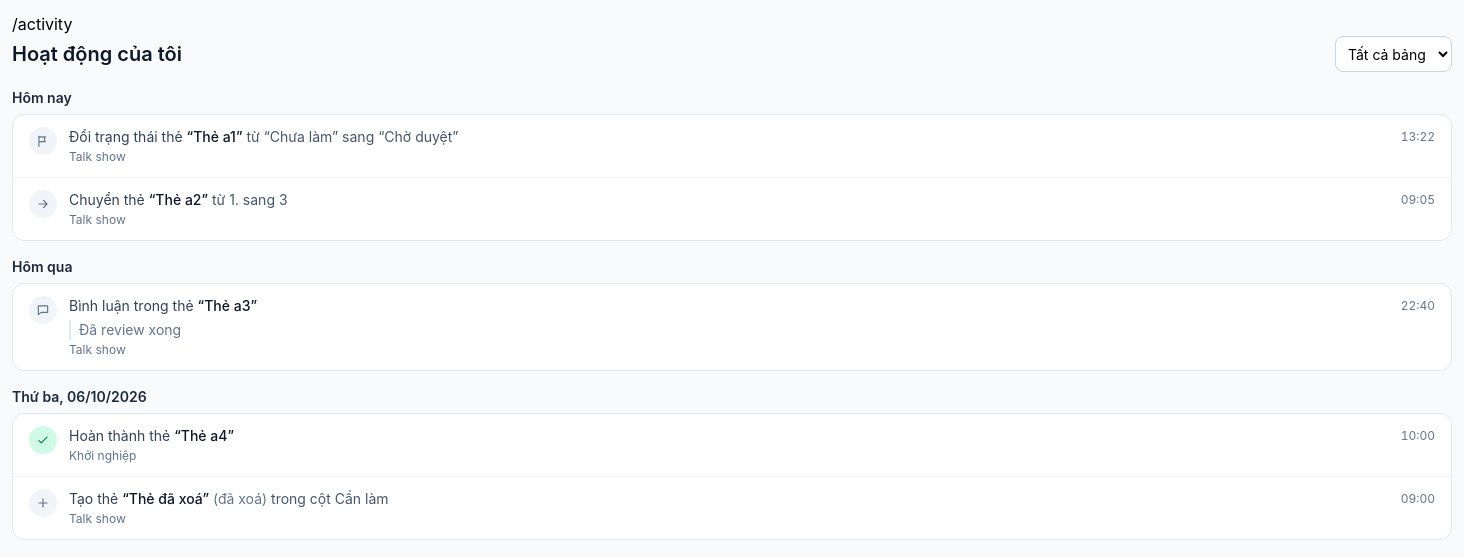
Test case: MyActivityPage › lọc theo bảng
Select "Khởi nghiệp" in the dropdown named "Lọc theo bảng": (1394,54) 1335,36 -> 1452,72
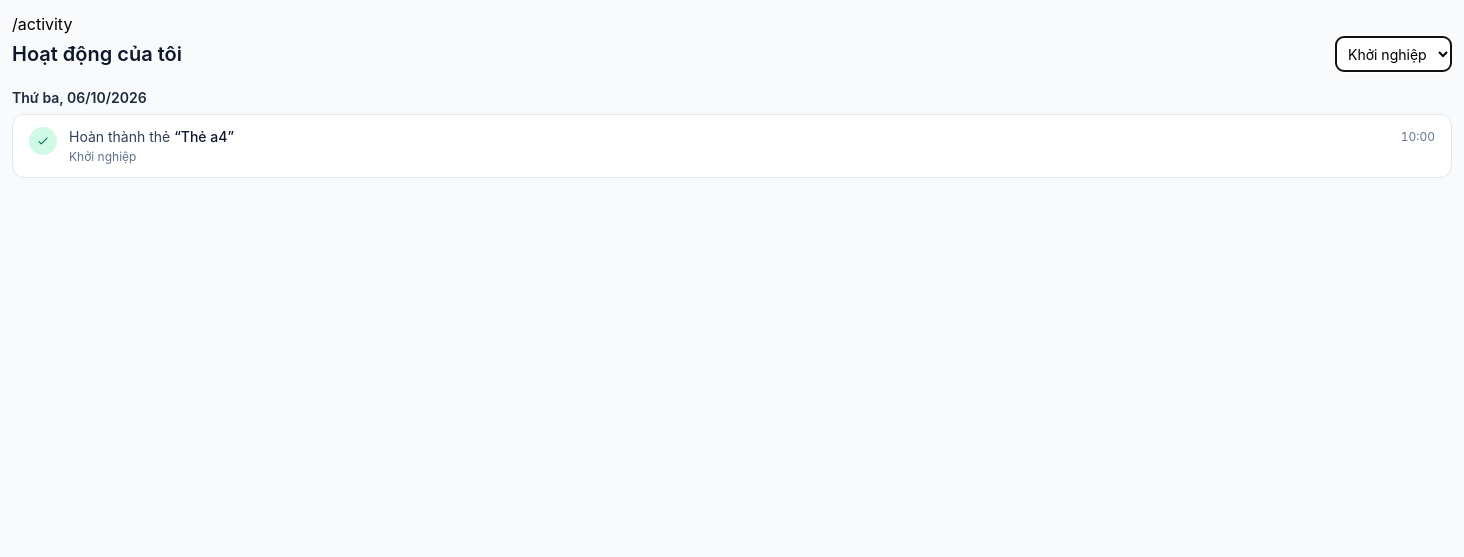
Expected: the element "Thứ ba, 06/10/2026" shows "Hoàn thành thẻ “Thẻ a4”", 12,88 -> 1452,178
Expected: the heading "Hôm nay" is gone
